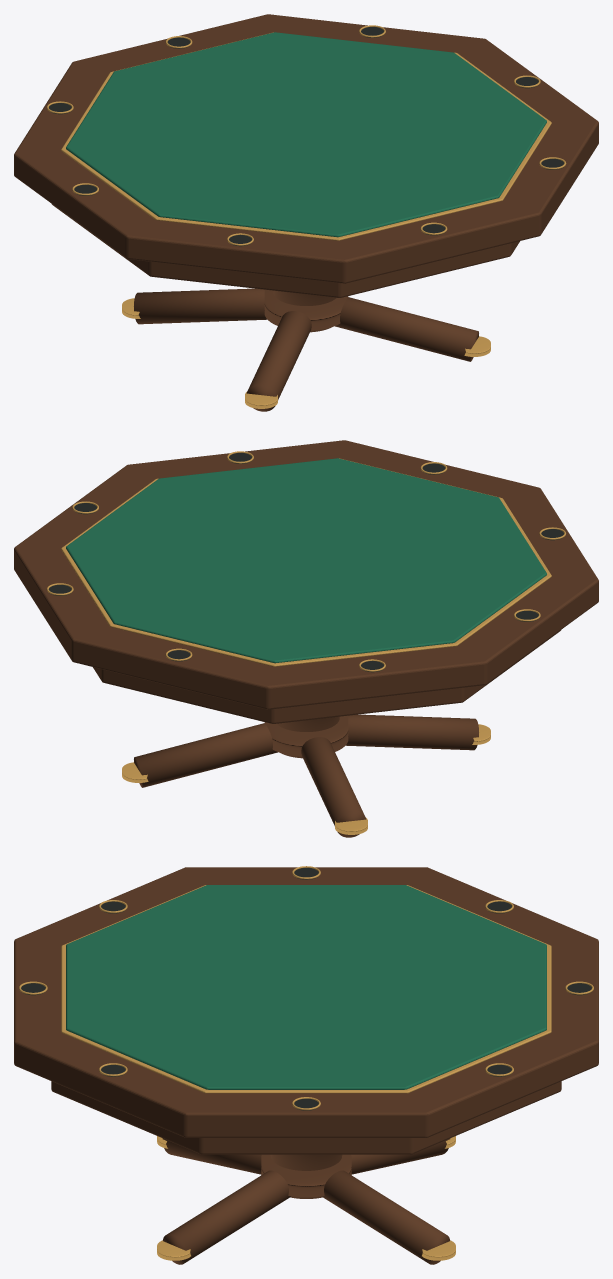
The model's file is octagon_card_table.glb.
3 renders of one model, top to bottom at view 1: azimuth 30°, elevation 25°; view 2: azimuth 150°, elevation 25°; view 3: azimuth 270°, elevation 25°, orthographic. The views are drawn at different scales.
Visible parts, largest first — view 1: Octagonal green playing surface, Octagonal walnut tabletop, Underside apron, Splayed pedestal foot.003, Splayed pedestal foot.001, Brass inset border, Splayed pedestal foot.002, Pedestal lower collar, Central pedestal; view 2: Octagonal green playing surface, Octagonal walnut tabletop, Underside apron, Splayed pedestal foot, Splayed pedestal foot.002, Brass inset border, Splayed pedestal foot.001, Pedestal lower collar, Central pedestal; view 3: Octagonal green playing surface, Octagonal walnut tabletop, Underside apron, Splayed pedestal foot, Splayed pedestal foot.003, Brass inset border, Pedestal lower collar, Splayed pedestal foot.001, Splayed pedestal foot.002, Central pedestal.
Boxes of the visible parts, x1=… form: Octagonal green playing surface: x1=66, y1=32, x2=546, y2=237; Octagonal walnut tabletop: x1=14, y1=14, x2=598, y2=283; Underside apron: x1=52, y1=204, x2=519, y2=297; Splayed pedestal foot.003: x1=335, y1=297, x2=478, y2=361; Splayed pedestal foot.001: x1=134, y1=288, x2=266, y2=324; Brass inset border: x1=61, y1=32, x2=551, y2=240; Splayed pedestal foot.002: x1=246, y1=311, x2=311, y2=411; Pedestal lower collar: x1=264, y1=289, x2=348, y2=330; Central pedestal: x1=273, y1=290, x2=336, y2=332; Octagonal green playing surface: x1=66, y1=458, x2=546, y2=663; Octagonal walnut tabletop: x1=14, y1=440, x2=598, y2=709; Underside apron: x1=93, y1=630, x2=560, y2=723; Splayed pedestal foot: x1=134, y1=723, x2=277, y2=787; Splayed pedestal foot.002: x1=346, y1=714, x2=478, y2=750; Brass inset border: x1=61, y1=458, x2=551, y2=666; Splayed pedestal foot.001: x1=301, y1=737, x2=366, y2=837; Pedestal lower collar: x1=264, y1=715, x2=348, y2=756; Central pedestal: x1=276, y1=716, x2=339, y2=758; Octagonal green playing surface: x1=66, y1=885, x2=546, y2=1089; Octagonal walnut tabletop: x1=14, y1=867, x2=598, y2=1137; Underside apron: x1=51, y1=1081, x2=561, y2=1154; Splayed pedestal foot: x1=322, y1=1170, x2=450, y2=1264; Splayed pedestal foot.003: x1=162, y1=1170, x2=290, y2=1264; Brass inset border: x1=61, y1=885, x2=551, y2=1093; Pedestal lower collar: x1=261, y1=1154, x2=351, y2=1197; Splayed pedestal foot.001: x1=351, y1=1138, x2=450, y2=1174; Splayed pedestal foot.002: x1=162, y1=1138, x2=261, y2=1174; Central pedestal: x1=270, y1=1154, x2=342, y2=1198.
Bounding box in the file's own units: 1.88 × 0.7933 × 1.88.
